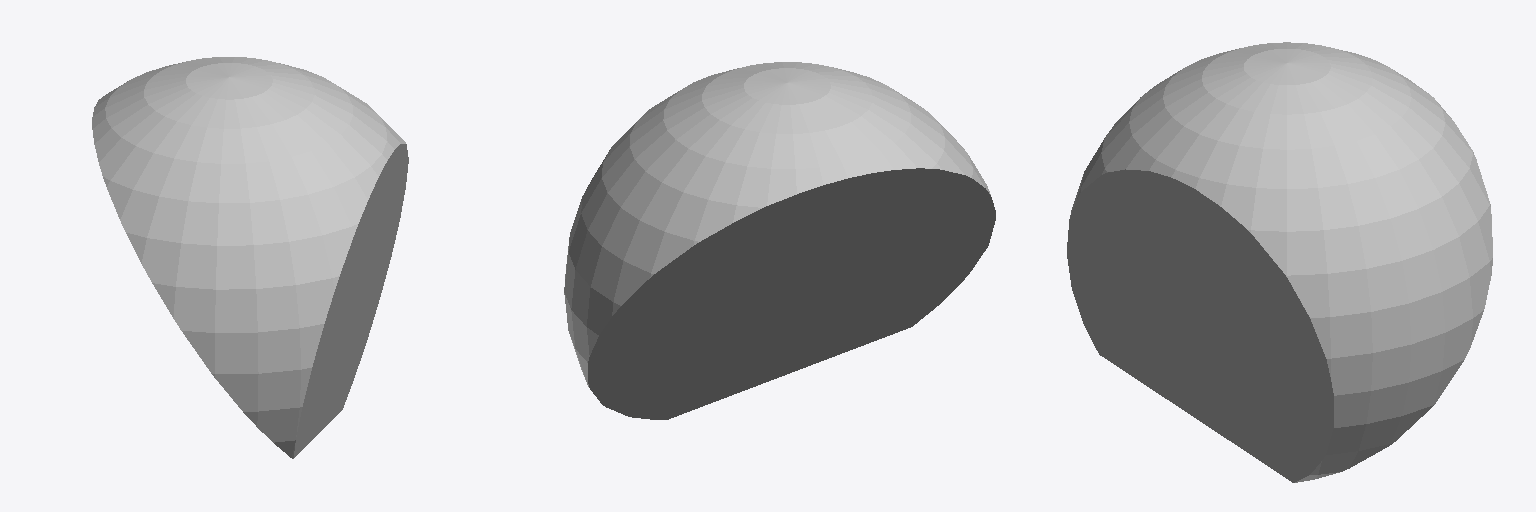
Rendered from vrag2Third2.obj.
3 views of the same model, side by side, from view 1: azimuth 30°, elevation 25°; view 2: azimuth 150°, elevation 25°; view 3: azimuth 270°, elevation 25° (orthographic).
Parts seen in each view (by area): view 1: Sphere; view 2: Sphere; view 3: Sphere.
Part boxes in pixels (left/top/right/bottom): Sphere: left=92, top=57, right=408, bottom=458; Sphere: left=564, top=62, right=995, bottom=419; Sphere: left=1067, top=42, right=1492, bottom=482.
Bounding box in the file's own units: 0.8638 × 0.8958 × 0.9536.